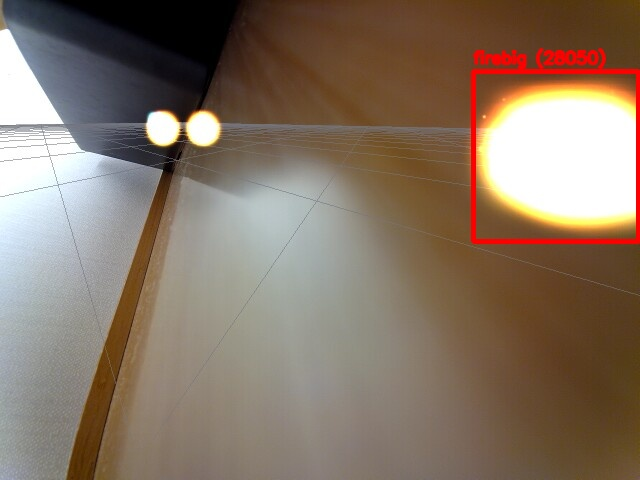firebig: (473, 71, 638, 241)
